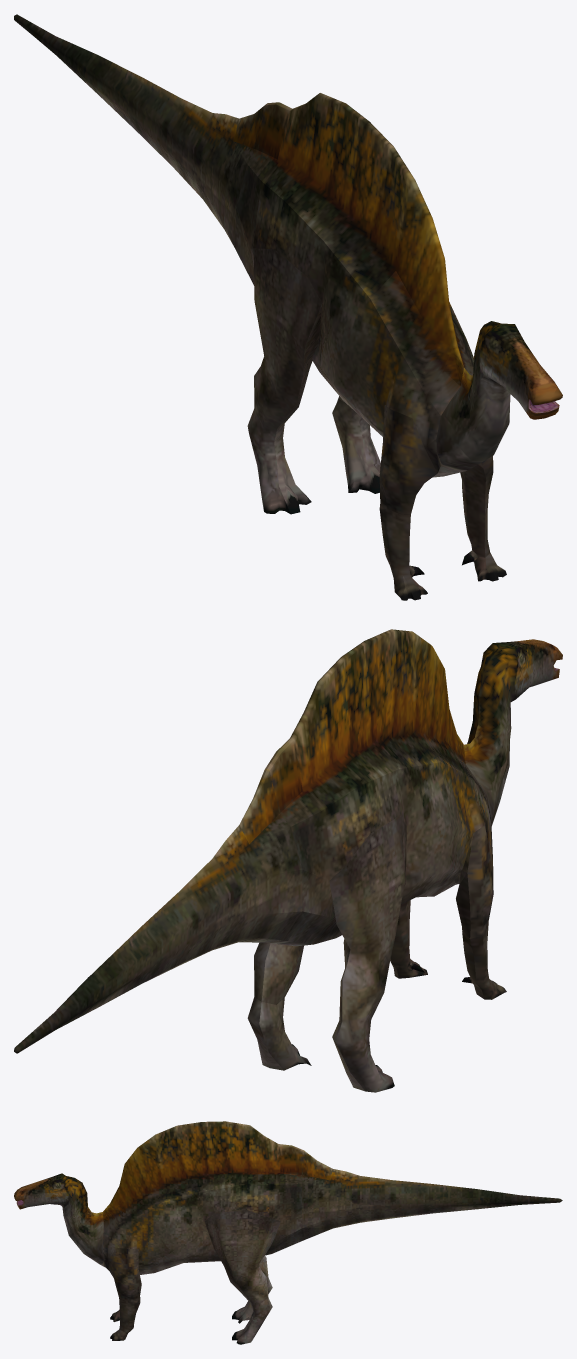
File: oran.obj
The picture shows the model from 3 angles, top to bottom: view 1: azimuth 30°, elevation 25°; view 2: azimuth 150°, elevation 25°; view 3: azimuth 270°, elevation 25°; orthographic projection. The views are drawn at different scales.
Visible parts, largest first — view 1: oran; view 2: oran; view 3: oran.
Boxes of the visible parts, left/top/right/bottom form: oran: left=14, top=14, right=562, bottom=600; oran: left=14, top=629, right=562, bottom=1092; oran: left=14, top=1121, right=562, bottom=1344.
Size of the model in its own units: 1.45 by 4.36 by 10.46.
Materials: 1 (1 with a texture image).
